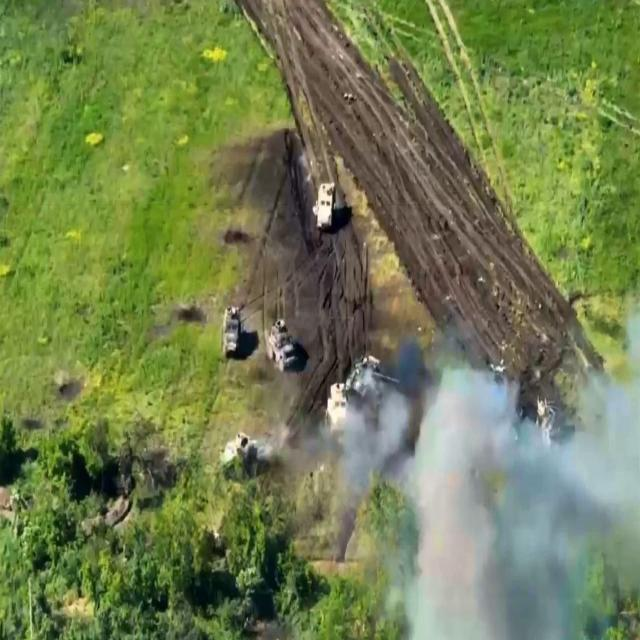MBT: (348, 355, 404, 405)
Vehicle: (266, 319, 300, 376), (223, 432, 259, 474), (221, 306, 245, 362), (315, 181, 340, 233), (327, 380, 349, 437)
